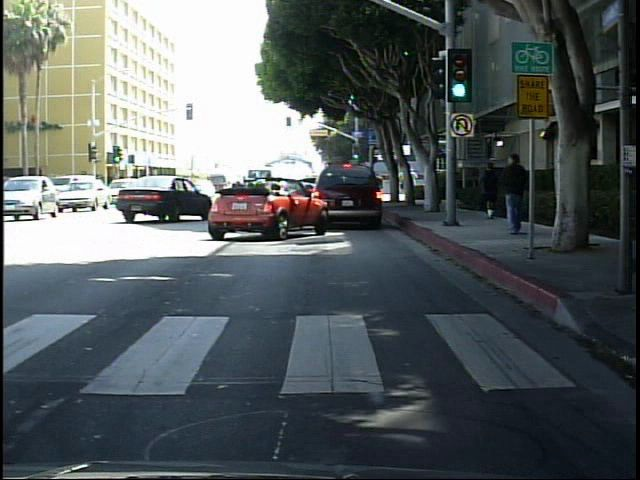person: (500, 146, 531, 238), (481, 157, 506, 221), (406, 164, 423, 201)
